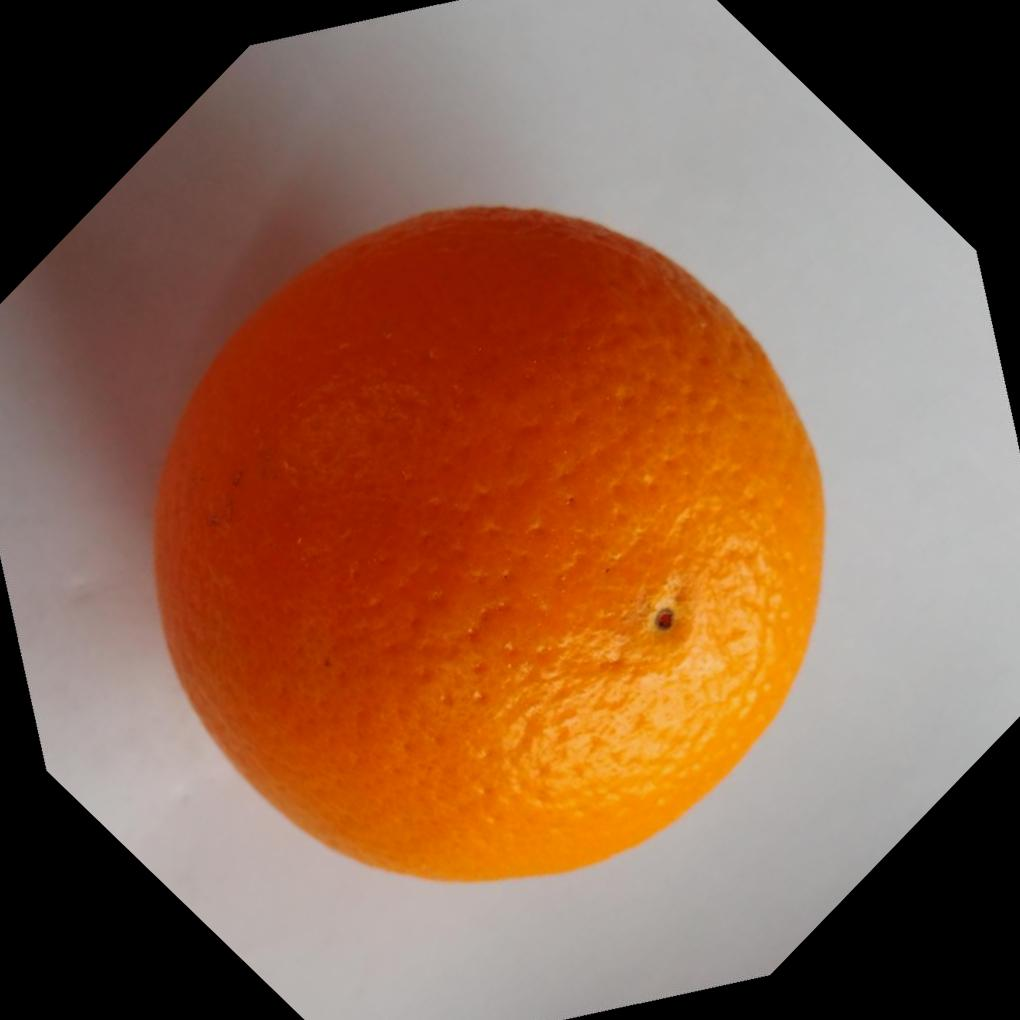FreshGuava: (146, 205, 826, 890)
